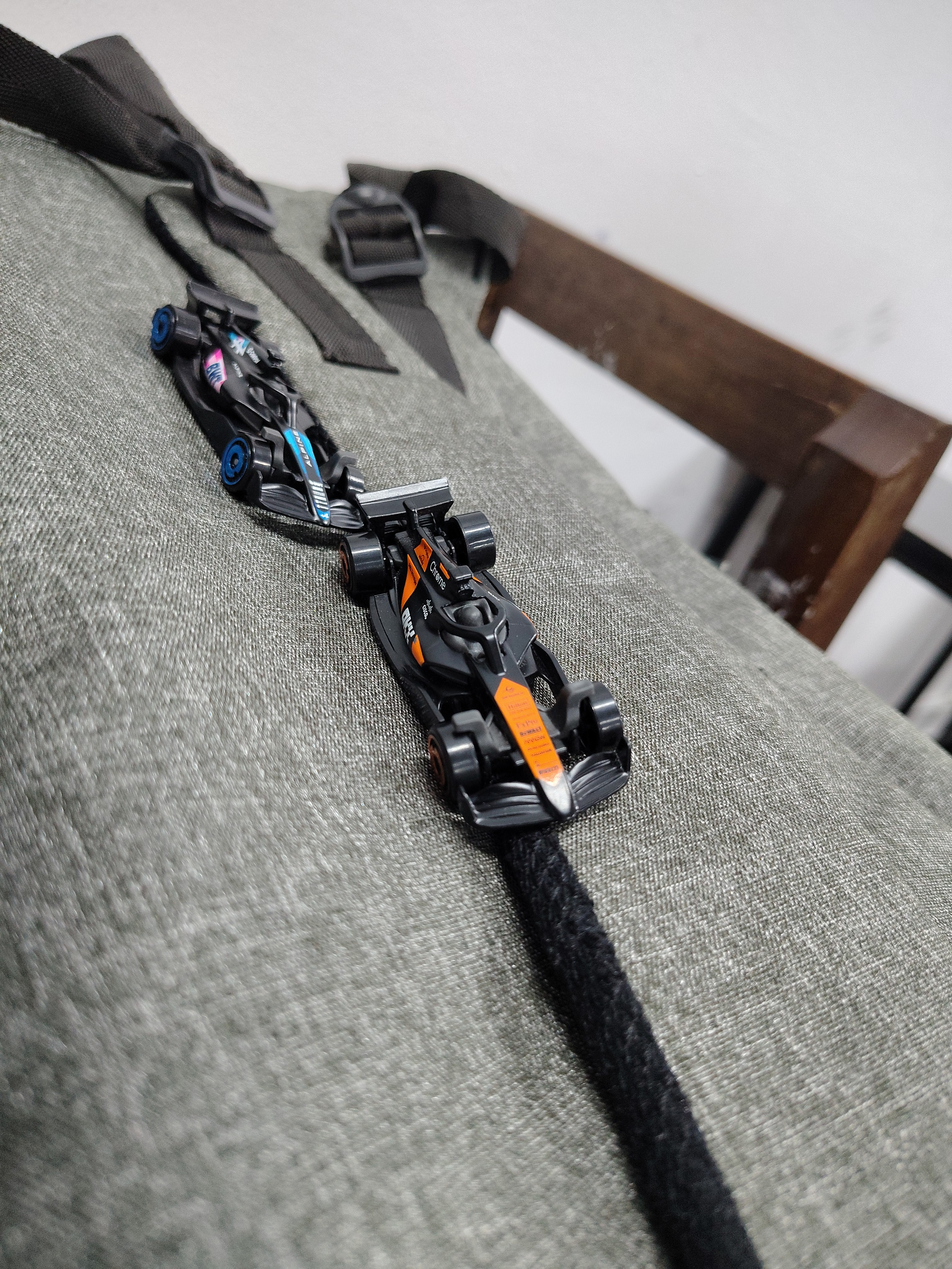Alpine A524: (96, 248, 395, 576)
McLaren MCL40: (298, 446, 669, 846)
